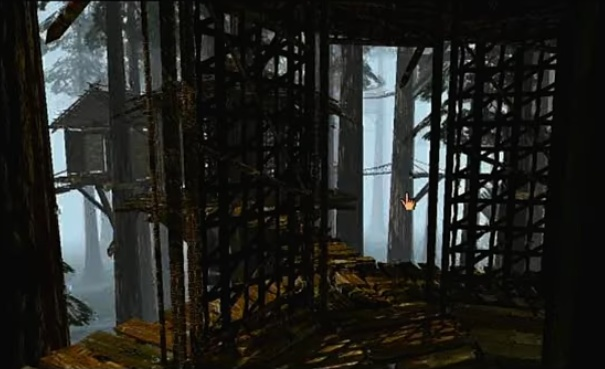Pointer: (397, 188, 422, 213)
